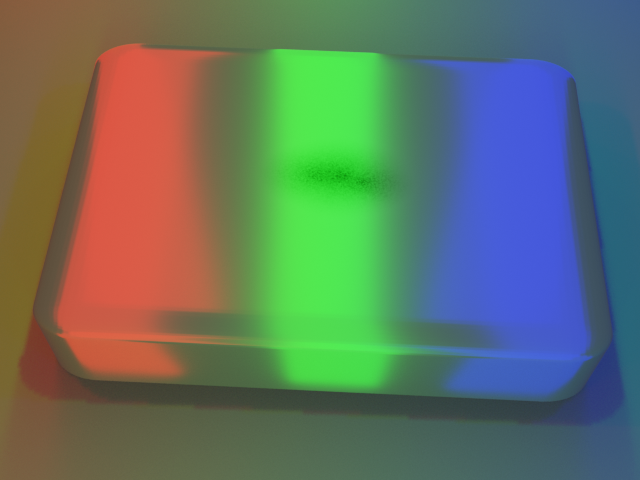stain: (231, 110, 443, 229)
